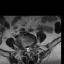CCS_normal: (27, 45, 29, 54)
LFS_normal: (31, 43, 32, 50)
LLS_normal: (29, 44, 31, 52)
RFS_normal: (23, 44, 25, 51)
RLS_normal: (25, 45, 27, 52)
